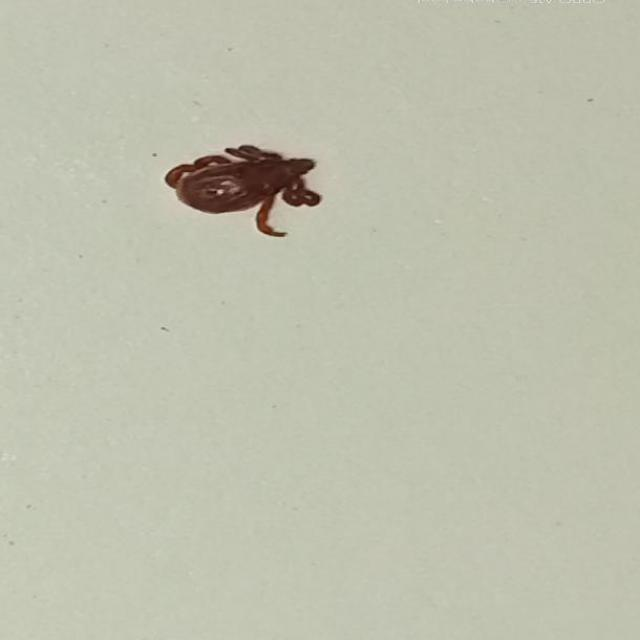Rhipicephalus Sanguineus-M: (161, 142, 324, 237)
